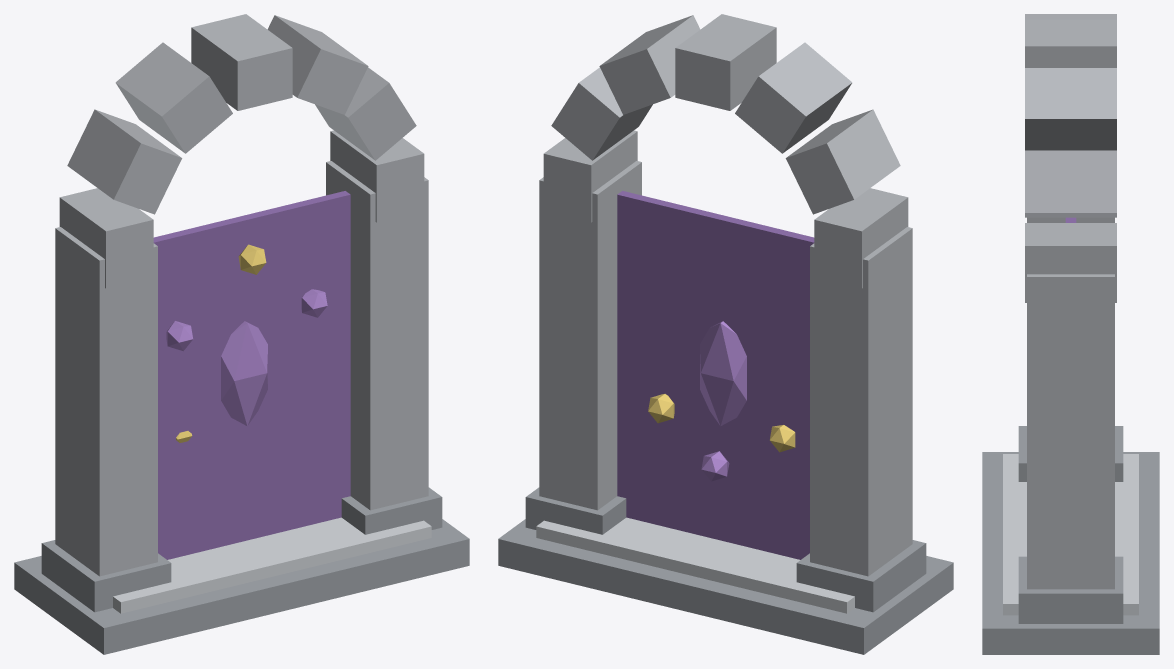
The model's file is animprop_portal_06.glb.
3 renders of one model, left to right at view 1: azimuth 30°, elevation 25°; view 2: azimuth 150°, elevation 25°; view 3: azimuth 270°, elevation 25°, orthographic.
Visible parts, largest first — view 1: animprop; view 2: animprop; view 3: animprop.
Boxes of the visible parts, x1=… form: animprop: x1=14, y1=14, x2=469, y2=654; animprop: x1=498, y1=14, x2=953, y2=654; animprop: x1=982, y1=14, x2=1159, y2=654.
Size of the model in its own units: 2 by 2.82 by 0.85.
